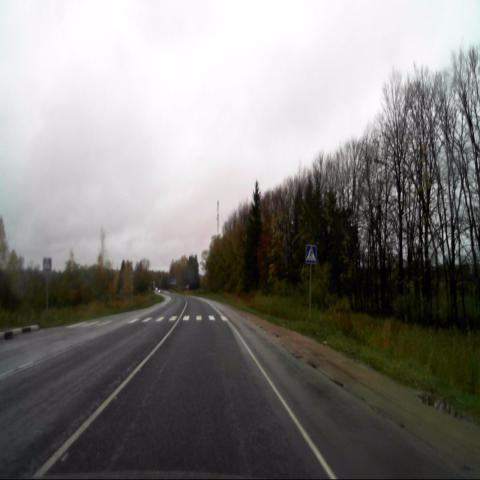5_19_1: (305, 244, 316, 264), (42, 258, 52, 273)
